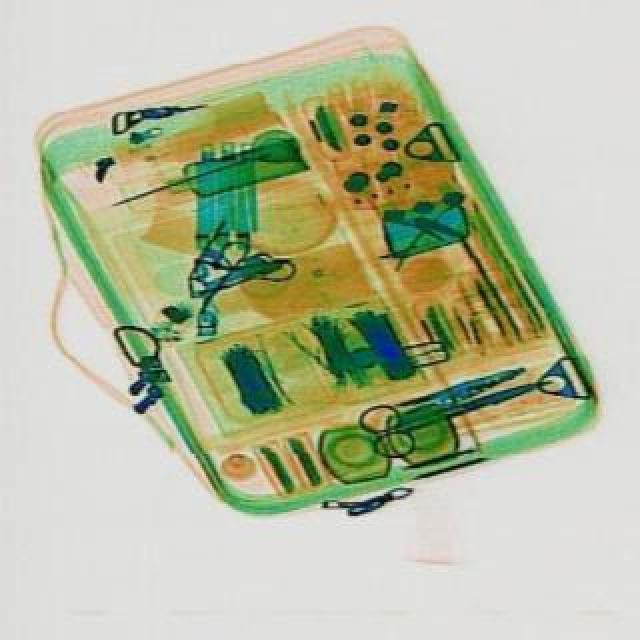pliers: (354, 354, 558, 462)
